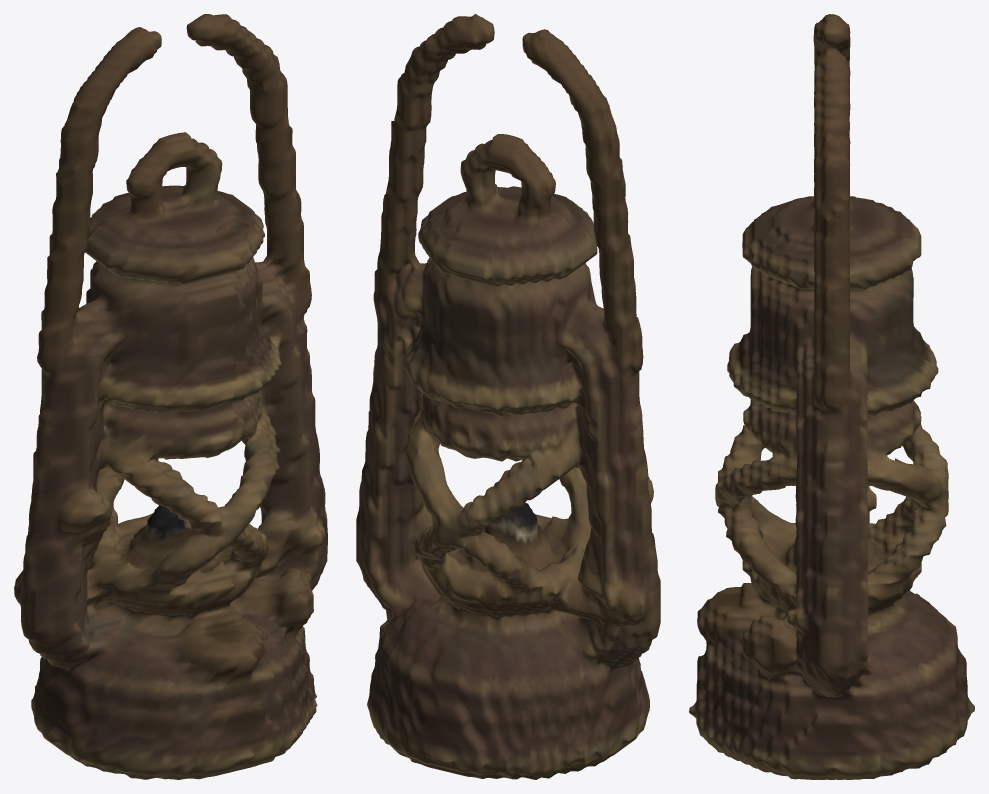
File: lantern.glb
3 renders of one model, left to right at view 1: azimuth 30°, elevation 25°; view 2: azimuth 150°, elevation 25°; view 3: azimuth 270°, elevation 25°, orthographic.
Visible parts, largest first — view 1: lantern; view 2: lantern; view 3: lantern.
Part boxes in pixels (<box>): lantern: <box>14,14,327,779</box>; lantern: <box>356,14,660,779</box>; lantern: <box>689,14,974,779</box>.
Bounding box in the file's own units: 0.0443 × 0.1 × 0.0371.
